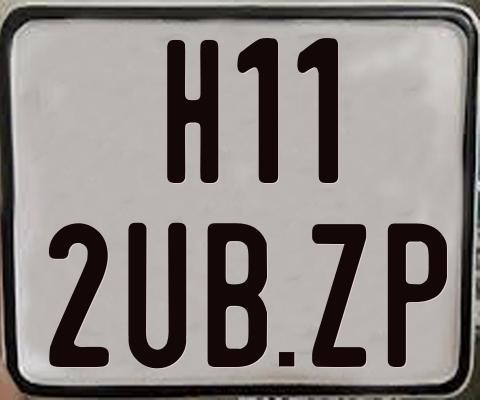1: (236, 36, 280, 183), (295, 38, 337, 183)
2: (47, 221, 107, 368)
B: (204, 220, 270, 369)
H: (167, 39, 218, 187)
P: (386, 221, 451, 370)
U: (127, 223, 190, 369)
Z: (311, 223, 366, 368)
